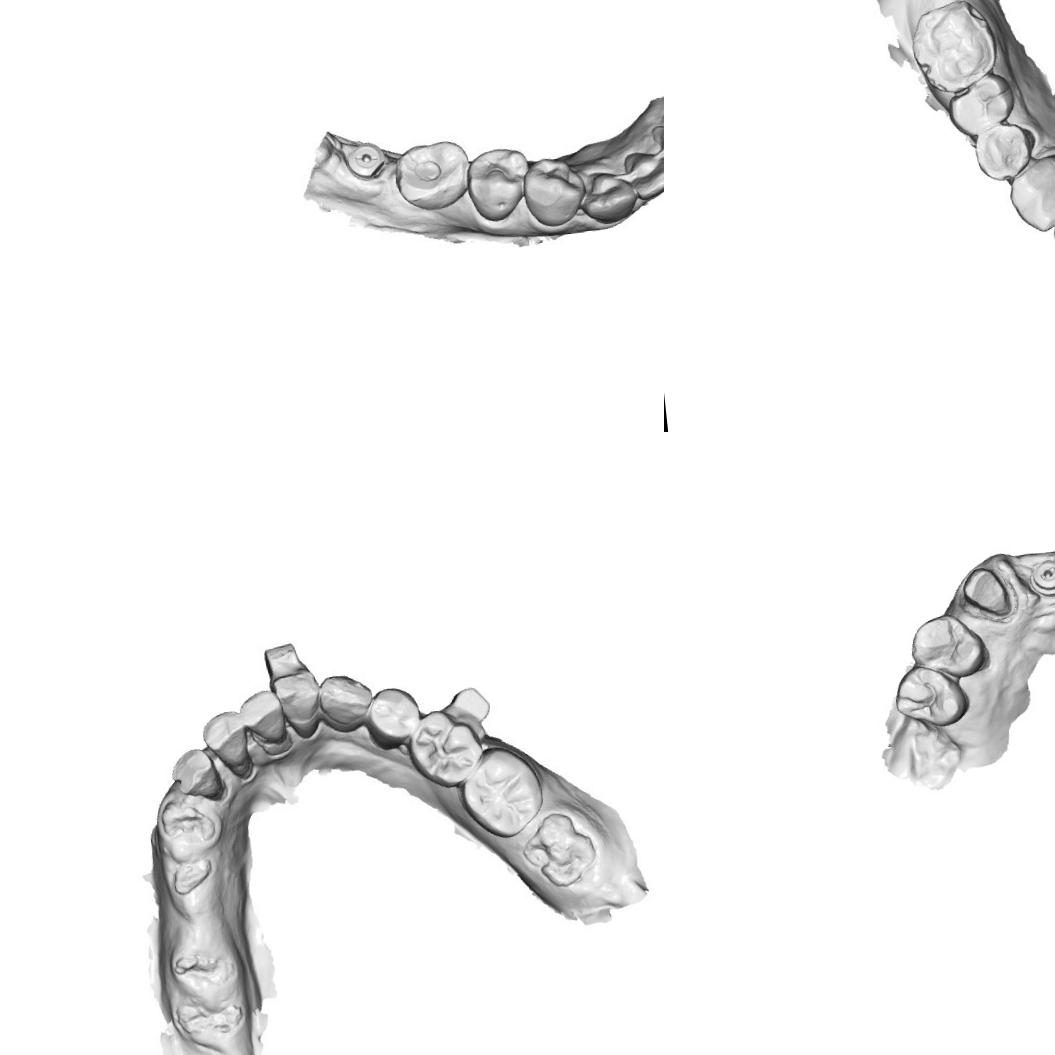canine: (1005, 152, 1055, 235), (582, 168, 638, 221), (319, 670, 372, 726)
crown: (960, 563, 1016, 624)
implant_minus: (343, 134, 387, 182), (1026, 557, 1055, 600)
incisor: (268, 656, 326, 736), (204, 710, 258, 783), (174, 746, 224, 804), (242, 688, 286, 750), (629, 147, 664, 197)
molar: (901, 0, 1008, 96), (460, 747, 548, 837), (385, 137, 473, 217), (525, 808, 596, 886)
premolar: (907, 610, 991, 682), (890, 660, 974, 730), (411, 710, 488, 785), (942, 70, 1022, 140), (464, 144, 530, 218), (970, 119, 1040, 185), (523, 154, 585, 228), (368, 688, 417, 742)
